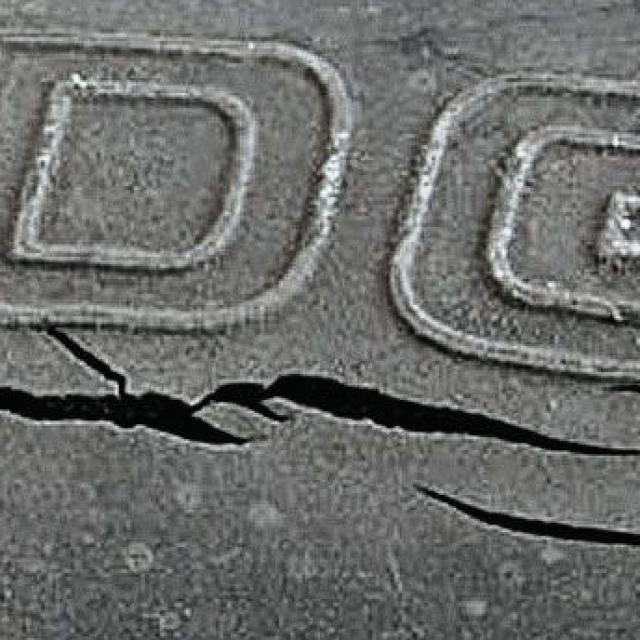Cracks: (0, 296, 640, 564)
